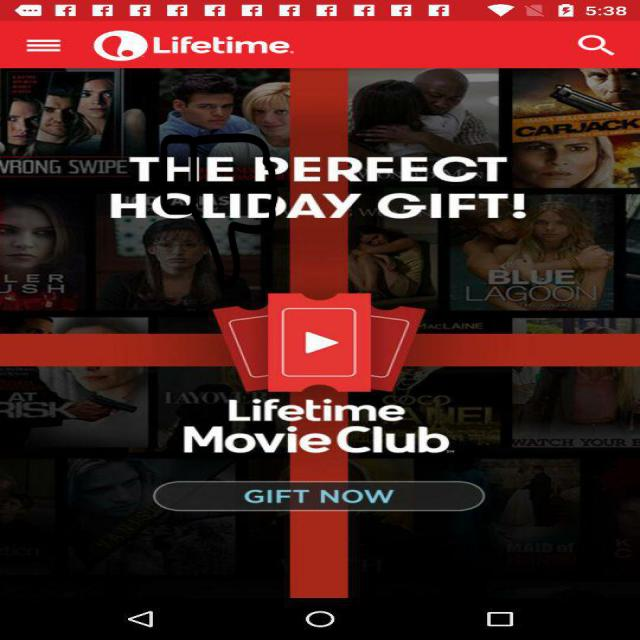obstruction: (159, 133, 280, 290)
